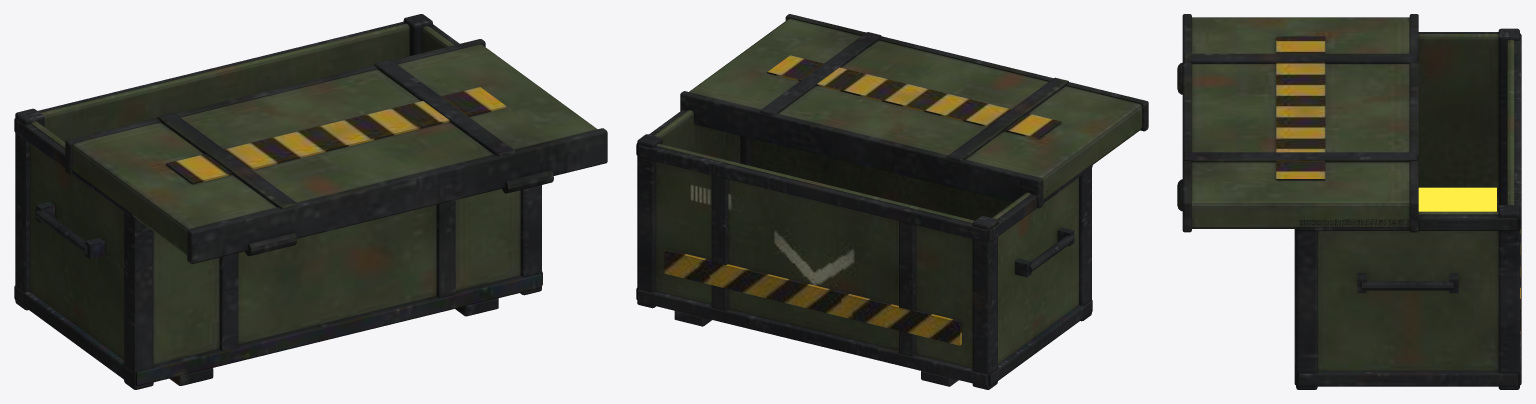
Rendered from supply_box.glb.
The picture shows the model from 3 angles, left to right: view 1: azimuth 30°, elevation 25°; view 2: azimuth 150°, elevation 25°; view 3: azimuth 270°, elevation 25°; orthographic projection. The views are drawn at different scales.
Visible parts, largest first — view 1: Body, Lid; view 2: Body, Lid; view 3: Body, Lid.
Part boxes in pixels (box(x1,y1,x2,y2)): Body: box(14, 14, 542, 389); Lid: box(65, 39, 607, 264); Body: box(636, 109, 1092, 389); Lid: box(680, 14, 1148, 208); Body: box(1294, 28, 1521, 389); Lid: box(1177, 14, 1418, 232).
Size of the model in its own units: 1.53 by 0.711 by 1.12.
3 materials, 2 textured.
